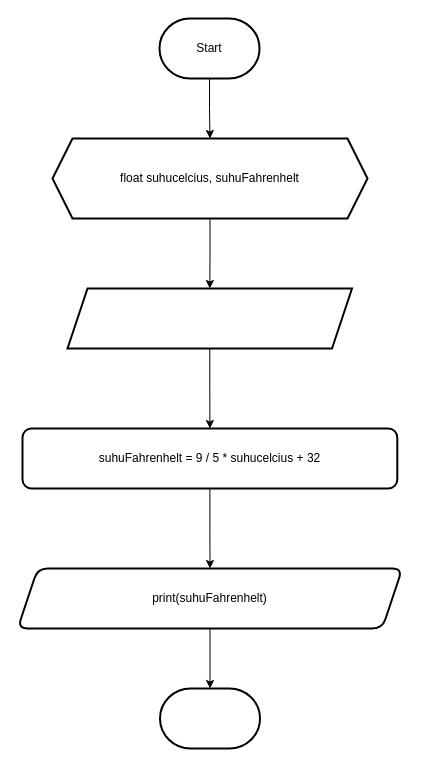
The diagram is 421 pixels wide and 766 high, and some of its shapes have lost their labels. The centre of each missing label's shape, as x and y in pixels:
End: [209,718]
Input suhuCelcius: [209,318]
